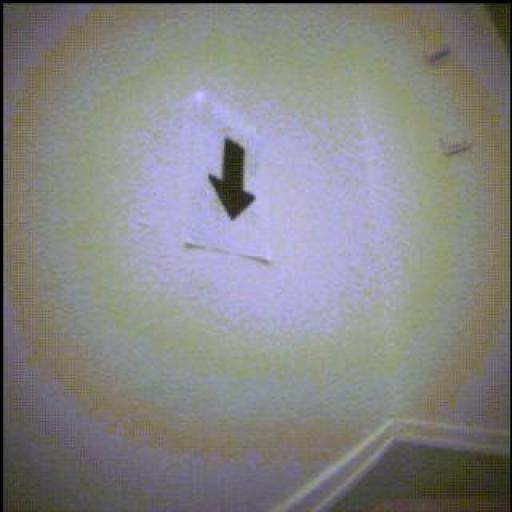arrow: (209, 140, 255, 220)
